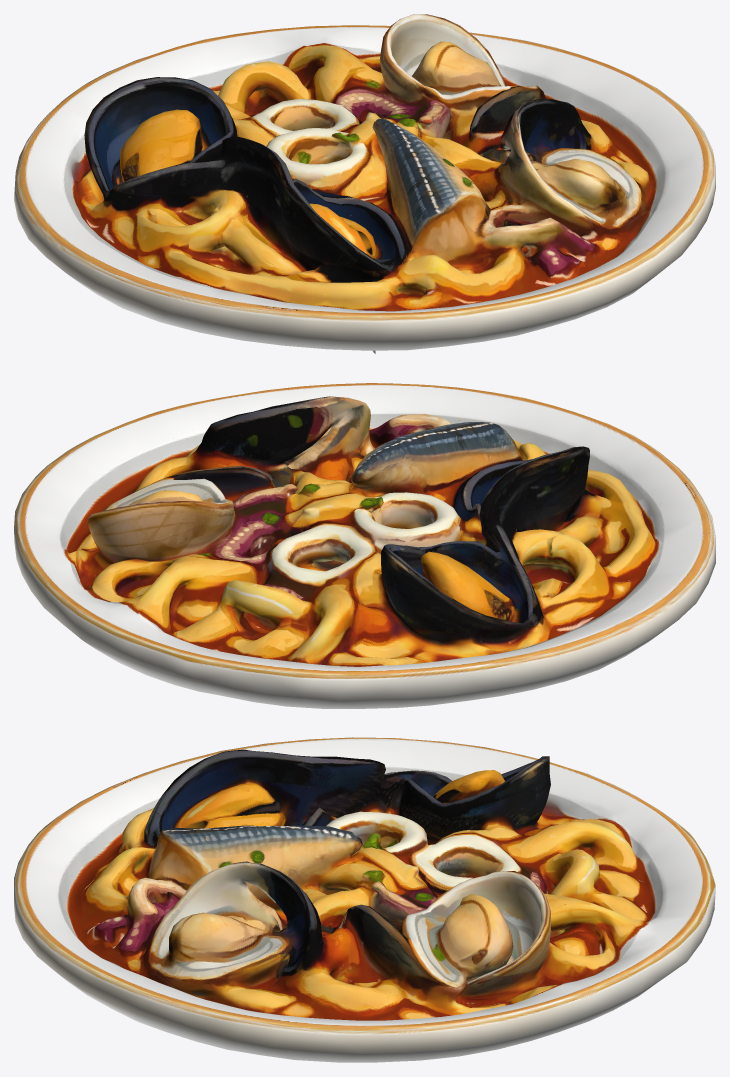
Rendered from fettuccine_sea_food.glb.
3 renders of one model, top to bottom at view 1: azimuth 30°, elevation 25°; view 2: azimuth 150°, elevation 25°; view 3: azimuth 270°, elevation 25°, orthographic.
Size of the model in its own units: 1.9 by 0.5088 by 1.9.
1 material, 1 textured.
